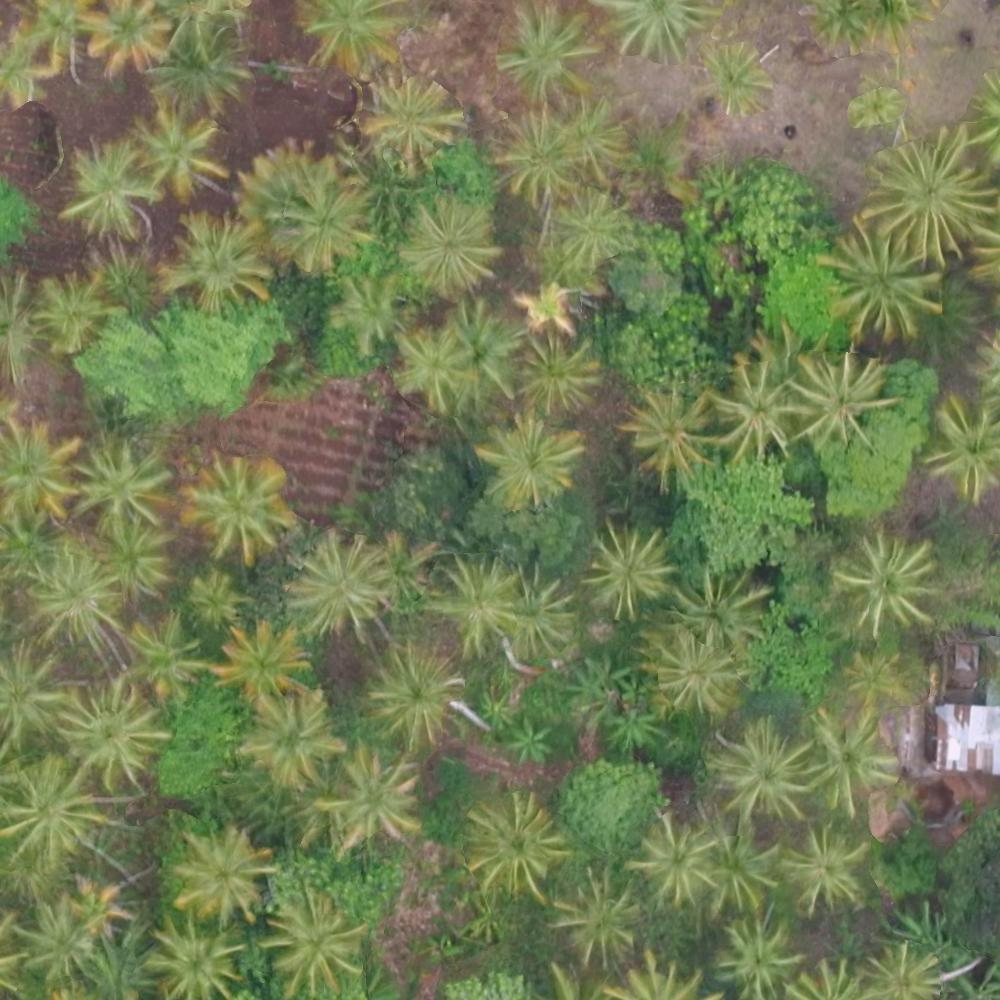not palm: (181, 335, 258, 414), (754, 141, 823, 207), (719, 483, 784, 550), (381, 446, 444, 507), (309, 422, 374, 481), (828, 456, 892, 515), (120, 344, 179, 407), (1, 157, 44, 240), (374, 867, 434, 926), (945, 826, 1000, 889), (579, 771, 637, 828), (629, 311, 690, 364), (950, 713, 1000, 767), (953, 4, 1000, 60), (955, 635, 1000, 691)
